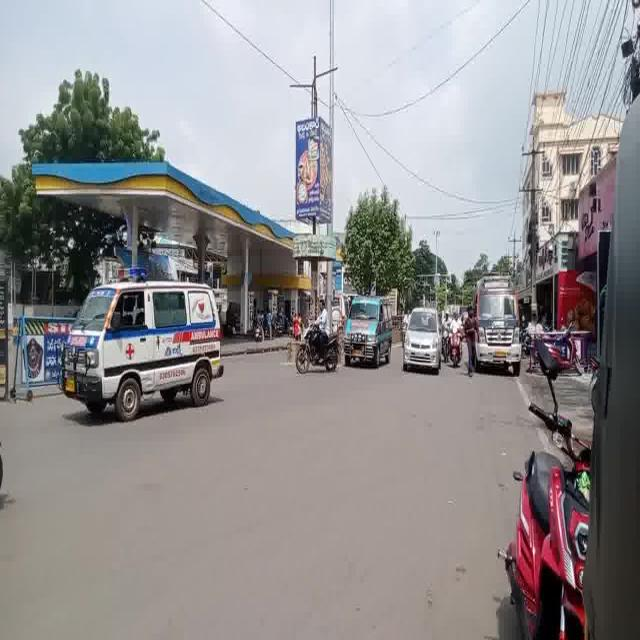ambulance: (63, 268, 239, 441), (465, 272, 531, 376), (343, 287, 399, 391)
